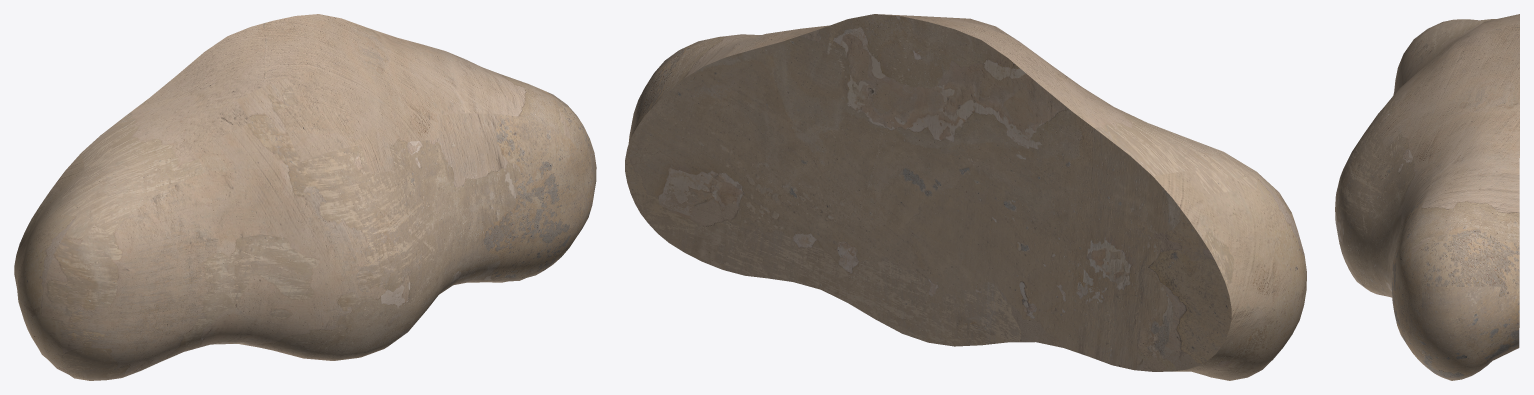
Rendered from bangs.fbx.
The picture shows the model from 3 angles, left to right: view 1: azimuth 30°, elevation 25°; view 2: azimuth 150°, elevation 25°; view 3: azimuth 270°, elevation 25°; orthographic projection. The views are drawn at different scales.
Parts seen in each view (by area): view 1: bangs; view 2: bangs; view 3: bangs.
Boxes of the visible parts, box(x1,y1,x2,y2) form: bangs: box(14, 14, 596, 380); bangs: box(625, 14, 1306, 380); bangs: box(1335, 14, 1519, 380).
Size of the model in its own units: 11.06 by 5.21 by 3.48.
